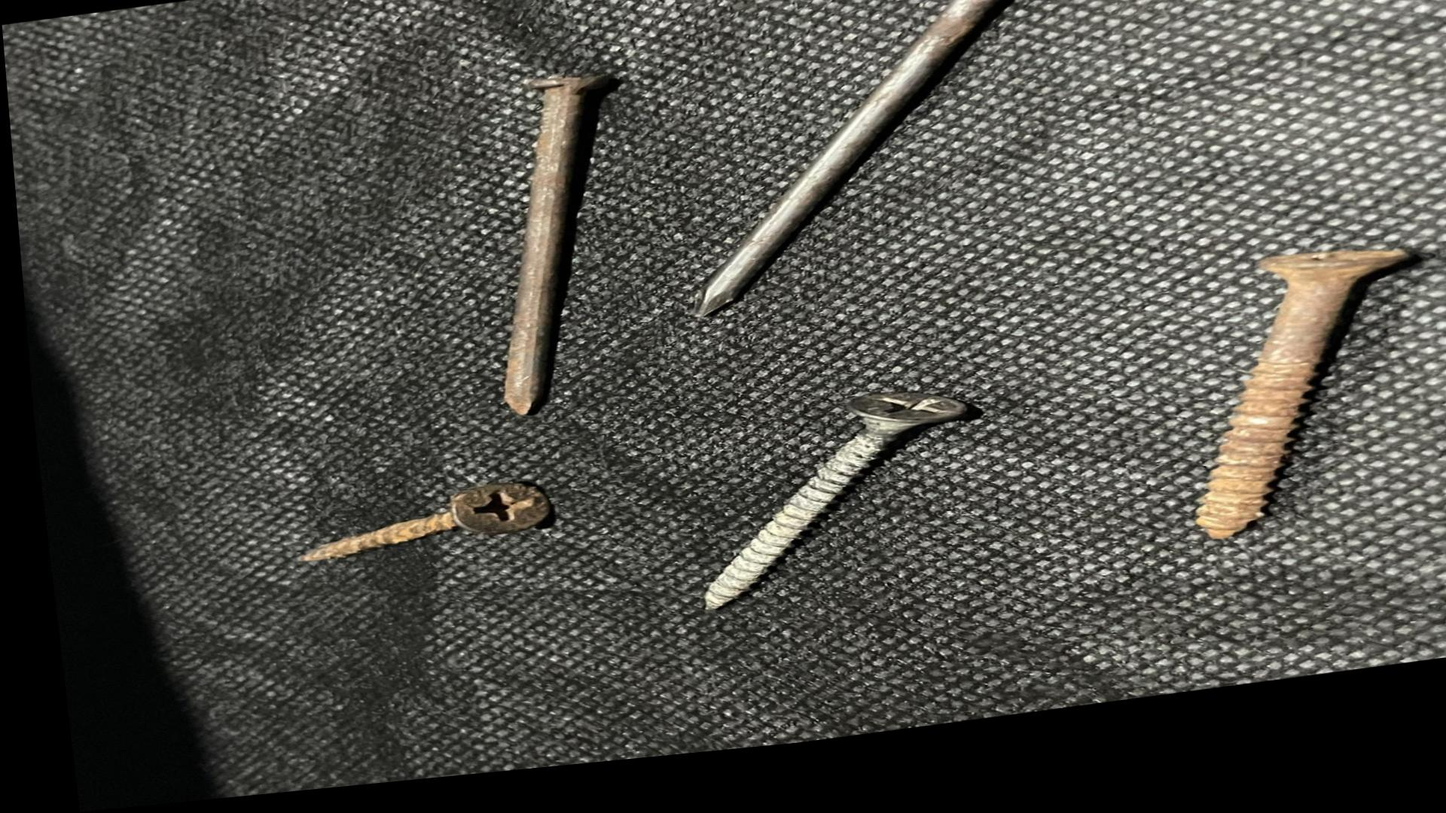nail: (645, 0, 1103, 347), (446, 74, 650, 439)
screw: (1078, 244, 1446, 579), (654, 374, 1013, 669), (223, 465, 572, 595)
